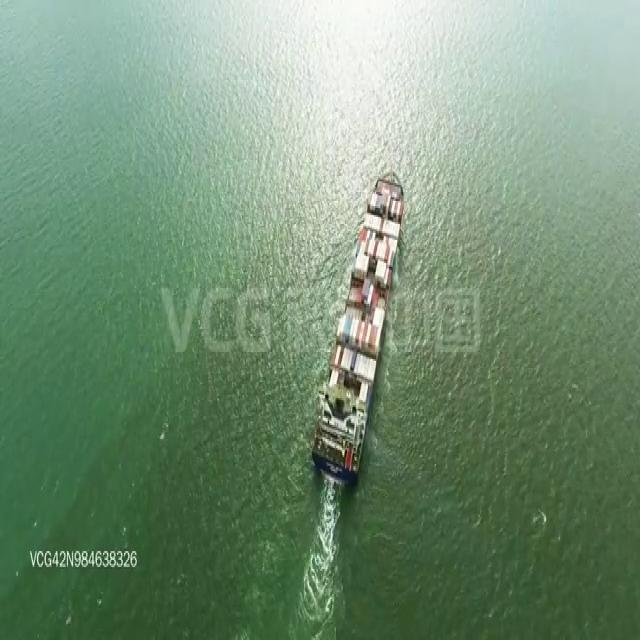cargoship: (310, 169, 404, 488)
